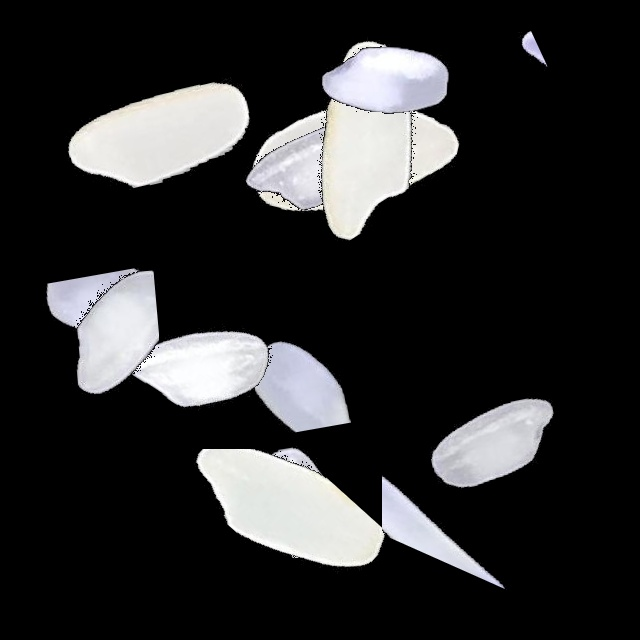Broken: (173, 386, 423, 558), (136, 449, 386, 621), (257, 33, 507, 203), (210, 227, 370, 477), (3, 212, 159, 462), (36, 221, 181, 471), (382, 363, 523, 613), (166, 196, 416, 291), (494, 2, 572, 252)
Full: (228, 34, 478, 284), (192, 41, 442, 291), (34, 14, 284, 264), (77, 237, 327, 487), (237, 12, 487, 262), (367, 317, 617, 567)
